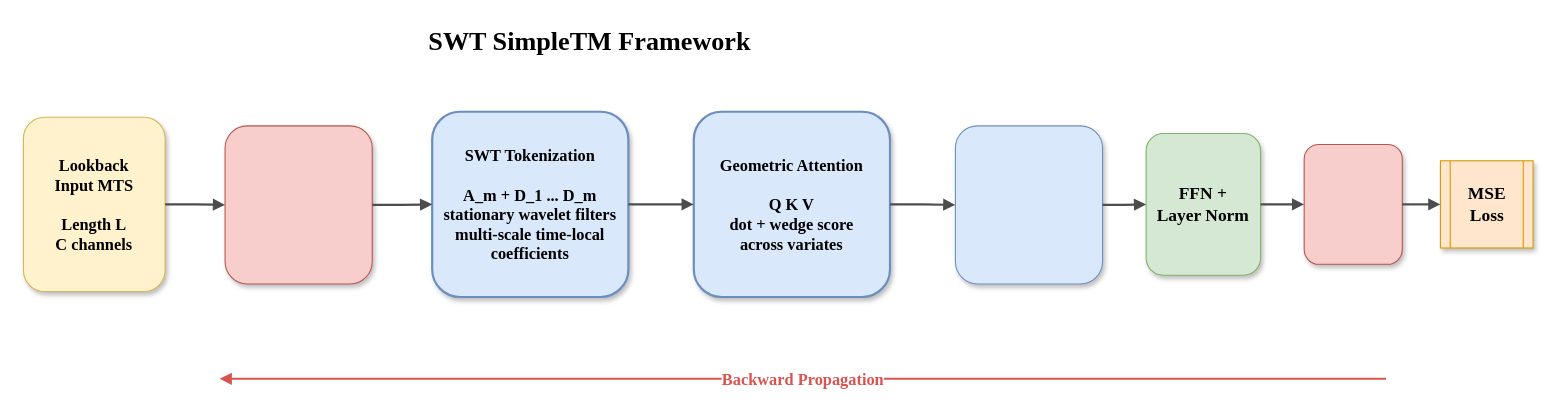
This 1559x407 diagram has some shape labels left out. Here are the shapes that lost their labels. From the top down, the centre of each, then its label:
At point 299,206: "Linear Projection / Inverted Embedding B,L,C -> B,C,d_model".
At point 1029,206: "Inverse SWT Reconstruction ISWT: m+1 scales -> d_model".
At point 1354,205: "Forecast Head".
